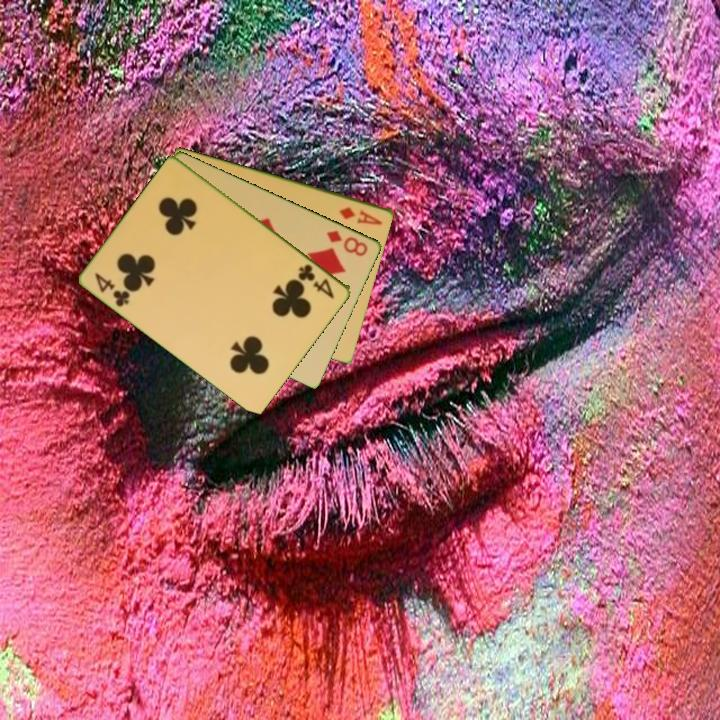4c: (295, 260, 338, 302), (91, 269, 133, 310)
8d: (323, 226, 371, 259)
Ad: (336, 203, 385, 228)
